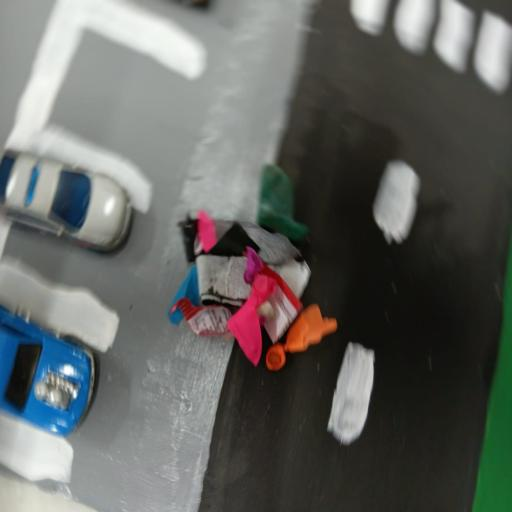trash: (168, 153, 341, 376)
